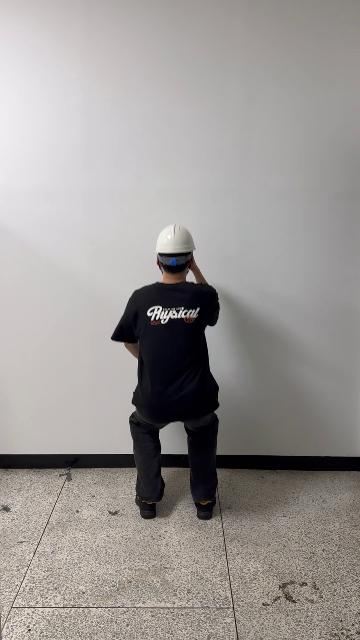helmet_worn: (155, 223, 196, 254)
shoe_worn: (136, 485, 160, 519), (194, 497, 215, 520)
vest_not_worn: (132, 286, 218, 431)
